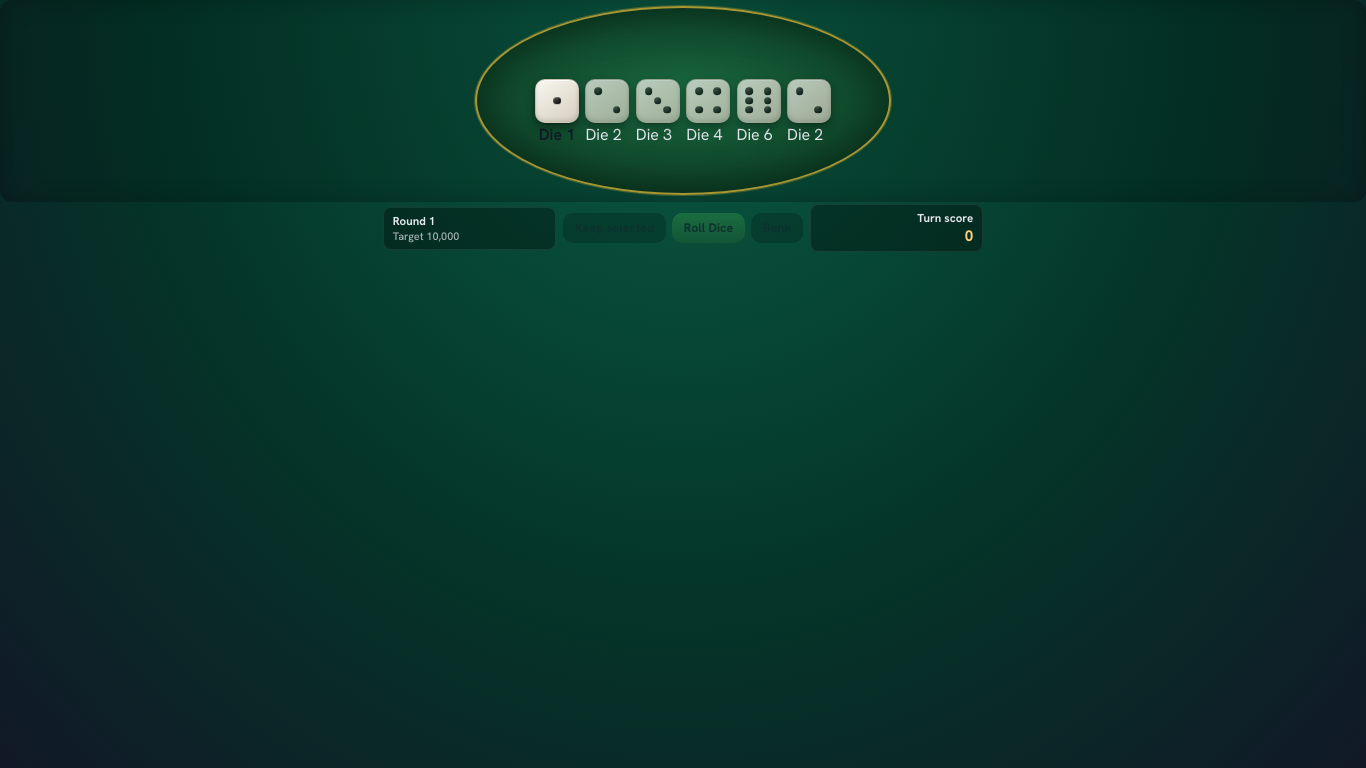
Test: Zilch UX cleanup › clicking valid scoring die enables Keep selected after ordered phase
The width and height of the screenshot is (1366, 768).
Click the button with aria-label "Select die 1" at coordinates (557, 101), box [535, 79, 579, 123]
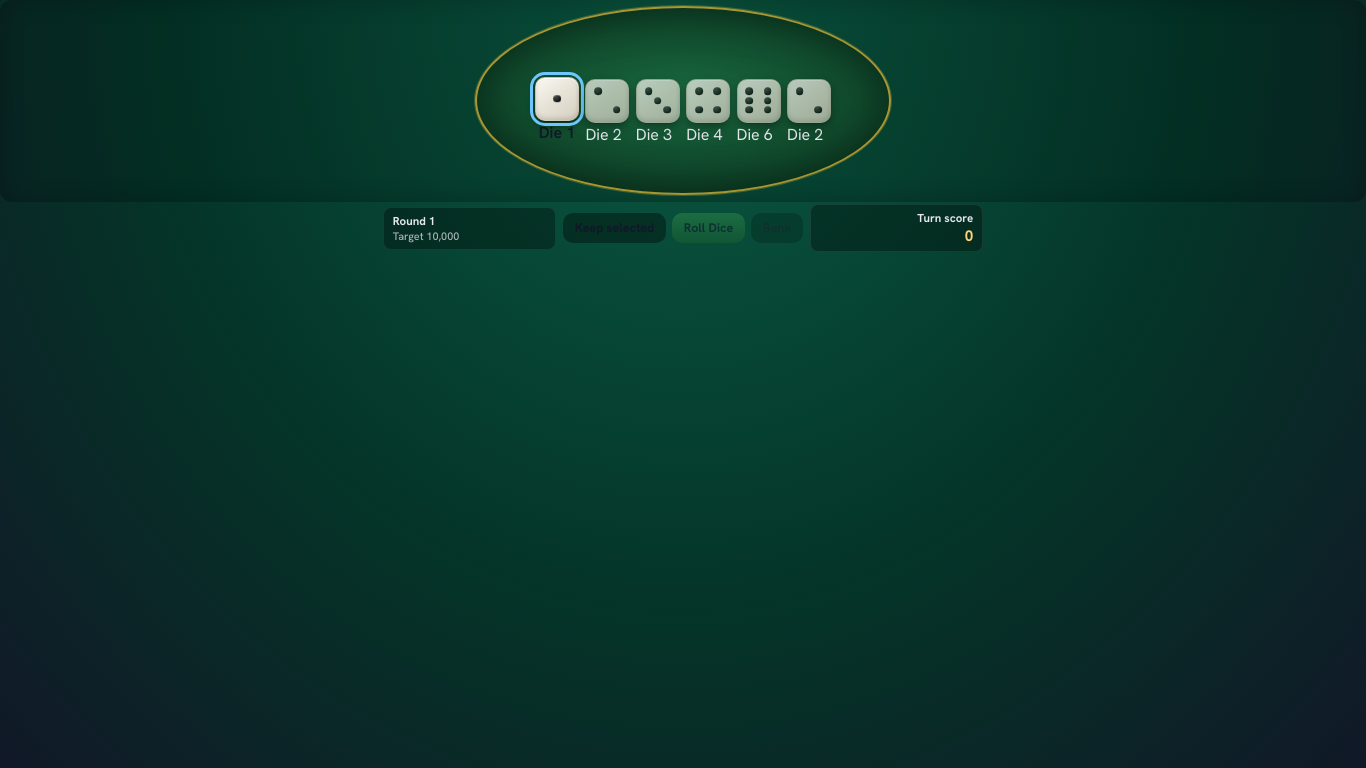
expect the button "Keep selected" is enabled: met, box [563, 213, 666, 243]
